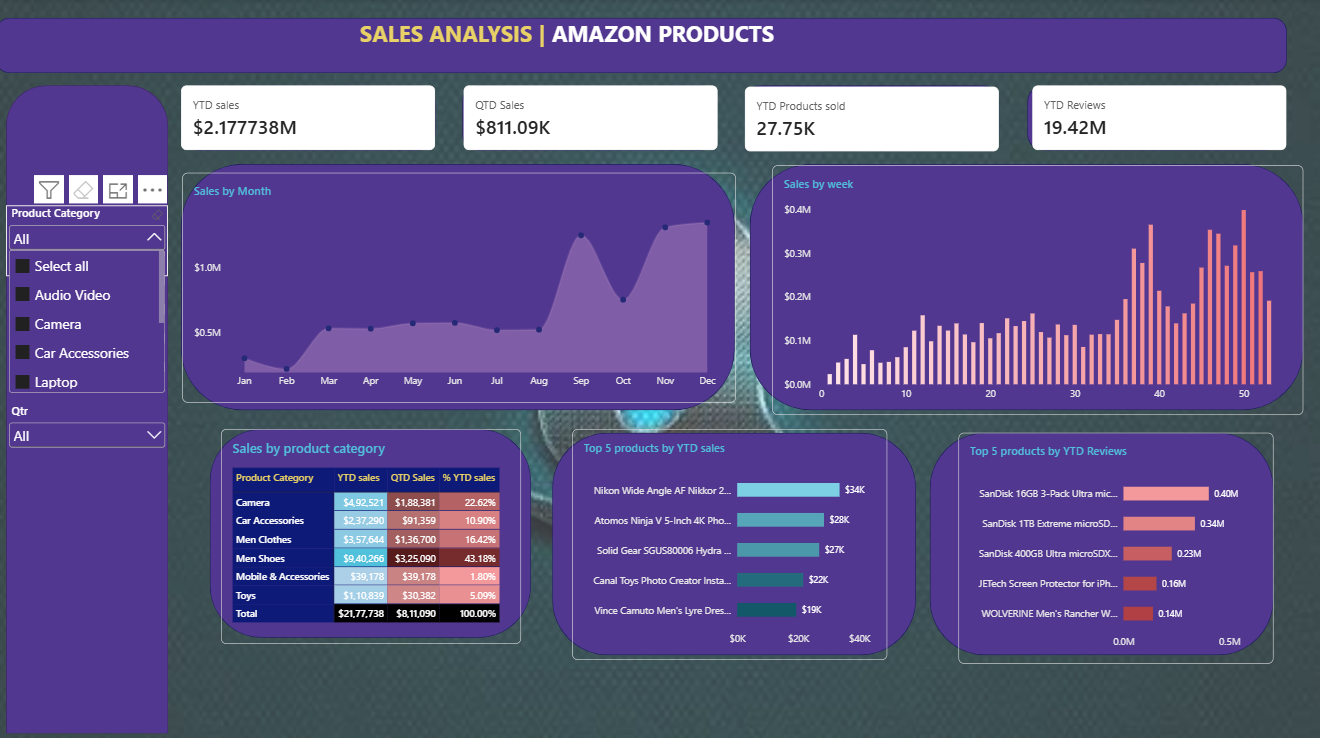

This screenshot's page, from the dashboard's own definition file:
{"tool":"powerbi","page":{"name":"Page 1","canvas":[1920,1080],"ordinal":0},"visuals":[{"type":"shape","box":[0,26.8,1869,80.3],"z":0},{"type":"shape","box":[14.4,125.6,234.6,938.6],"z":1000},{"type":"textbox","box":[526.9,26.8,615.4,80.3],"z":2000},{"type":"shape","box":[267.6,125.6,368.4,94.7],"z":3000},{"type":"cardVisual","fields":{"Data":["Amazon_Data.YTD sales"]},"box":[267.6,125.6,368.4,94.7],"z":4000},{"type":"shape","box":[675.8,125.6,368.4,94.7],"z":5000},{"type":"cardVisual","fields":{"Data":["Amazon_Data.QTD Sales"]},"box":[676.8,124.9,368.4,94.7],"z":6000},{"type":"shape","box":[1084.1,125.6,368.4,94.7],"z":7000},{"type":"shape","box":[1492.3,125.6,368.4,94.7],"z":8000},{"type":"cardVisual","fields":{"Data":["Amazon_Data.YTD Products sold"]},"box":[1084,126.7,368.4,94.7],"z":9000},{"type":"shape","box":[267.8,238.9,801.7,356.5],"z":10000},{"type":"cardVisual","fields":{"Data":["Amazon_Data.YTD Reviews"]},"box":[1500.2,124.9,368.4,94.7],"z":11000},{"type":"areaChart","title":"Sales by Month","fields":{"Category":["date Table.month Column"],"Y":["Sum(Amazon_Data.Price(Dollar))"]},"box":[269.6,251.5,801.7,333],"z":12000},{"type":"shape","box":[1091.2,238.9,801.7,356.5],"z":13000},{"type":"columnChart","title":"Sales by week","fields":{"Category":["date Table.week"],"Y":["Sum(Amazon_Data.Price(Dollar))"]},"box":[1123.8,240.7,769.1,361.9],"z":14000},{"type":"shape","box":[309.5,622.5,465.1,302.2],"z":15000},{"type":"pivotTable","title":"Sales by product category","fields":{"Rows":["Amazon_Data.Product Category"],"Values":["Amazon_Data.YTD sales1","Amazon_Data.QTD Sales","Amazon_Data.YTD sales"]},"box":[325.7,622.5,434.3,311.3],"z":16000},{"type":"shape","box":[1351.8,628,497.7,322.1],"z":17000},{"type":"shape","box":[805.3,628,526.6,322.1],"z":18000},{"type":"clusteredBarChart","title":"Top 5 products by YTD sales","fields":{"Category":["Amazon_Data.Product Description"],"Y":["Amazon_Data.YTD sales"]},"box":[834.3,622.5,456,334.8],"z":19000},{"type":"clusteredBarChart","title":"Top 5 products by YTD Reviews","fields":{"Category":["Amazon_Data.Product Description"],"Y":["Amazon_Data.YTD Reviews"]},"box":[1393.4,628,456,334.8],"z":20000},{"type":"slicer","fields":{"Values":["Amazon_Data.Product Category"]},"box":[14.5,418,235.3,103.2],"z":21000},{"type":"slicer","fields":{"Values":["date Table.Qtr"]},"box":[14.5,584.5,235.3,95.9],"z":21001}]}

Visuals, with their boxes in screenshot pixels (x1, y1, x2, y2), scaled from the page's 1920x1080 canvas onto the 1320x738 screenshot:
shape: 0,18,1285,73
shape: 10,86,171,727
textbox: 362,18,785,73
shape: 184,86,437,151
cardVisual - Amazon_Data.YTD sales: 184,86,437,151
shape: 465,86,718,151
cardVisual - Amazon_Data.QTD Sales: 465,85,719,150
shape: 745,86,999,151
shape: 1026,86,1279,151
cardVisual - Amazon_Data.YTD Products sold: 745,87,999,151
shape: 184,163,735,407
cardVisual - Amazon_Data.YTD Reviews: 1031,85,1285,150
"Sales by Month" areaChart: 185,172,737,399
shape: 750,163,1301,407
"Sales by week" columnChart: 773,164,1301,412
shape: 213,425,533,632
"Sales by product category" pivotTable: 224,425,522,638
shape: 929,429,1272,649
shape: 554,429,916,649
"Top 5 products by YTD sales" clusteredBarChart: 574,425,887,654
"Top 5 products by YTD Reviews" clusteredBarChart: 958,429,1271,658
slicer - Amazon_Data.Product Category: 10,286,172,356
slicer - date Table.Qtr: 10,399,172,465
